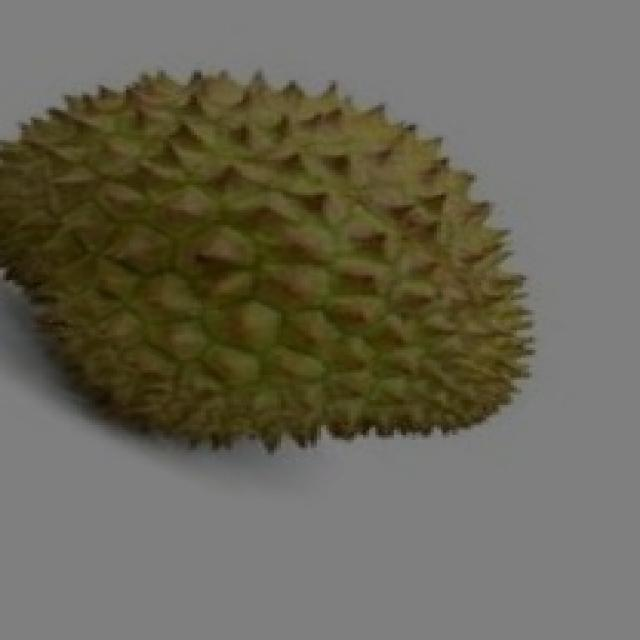fruit: (175, 55, 576, 503), (0, 55, 357, 505)
